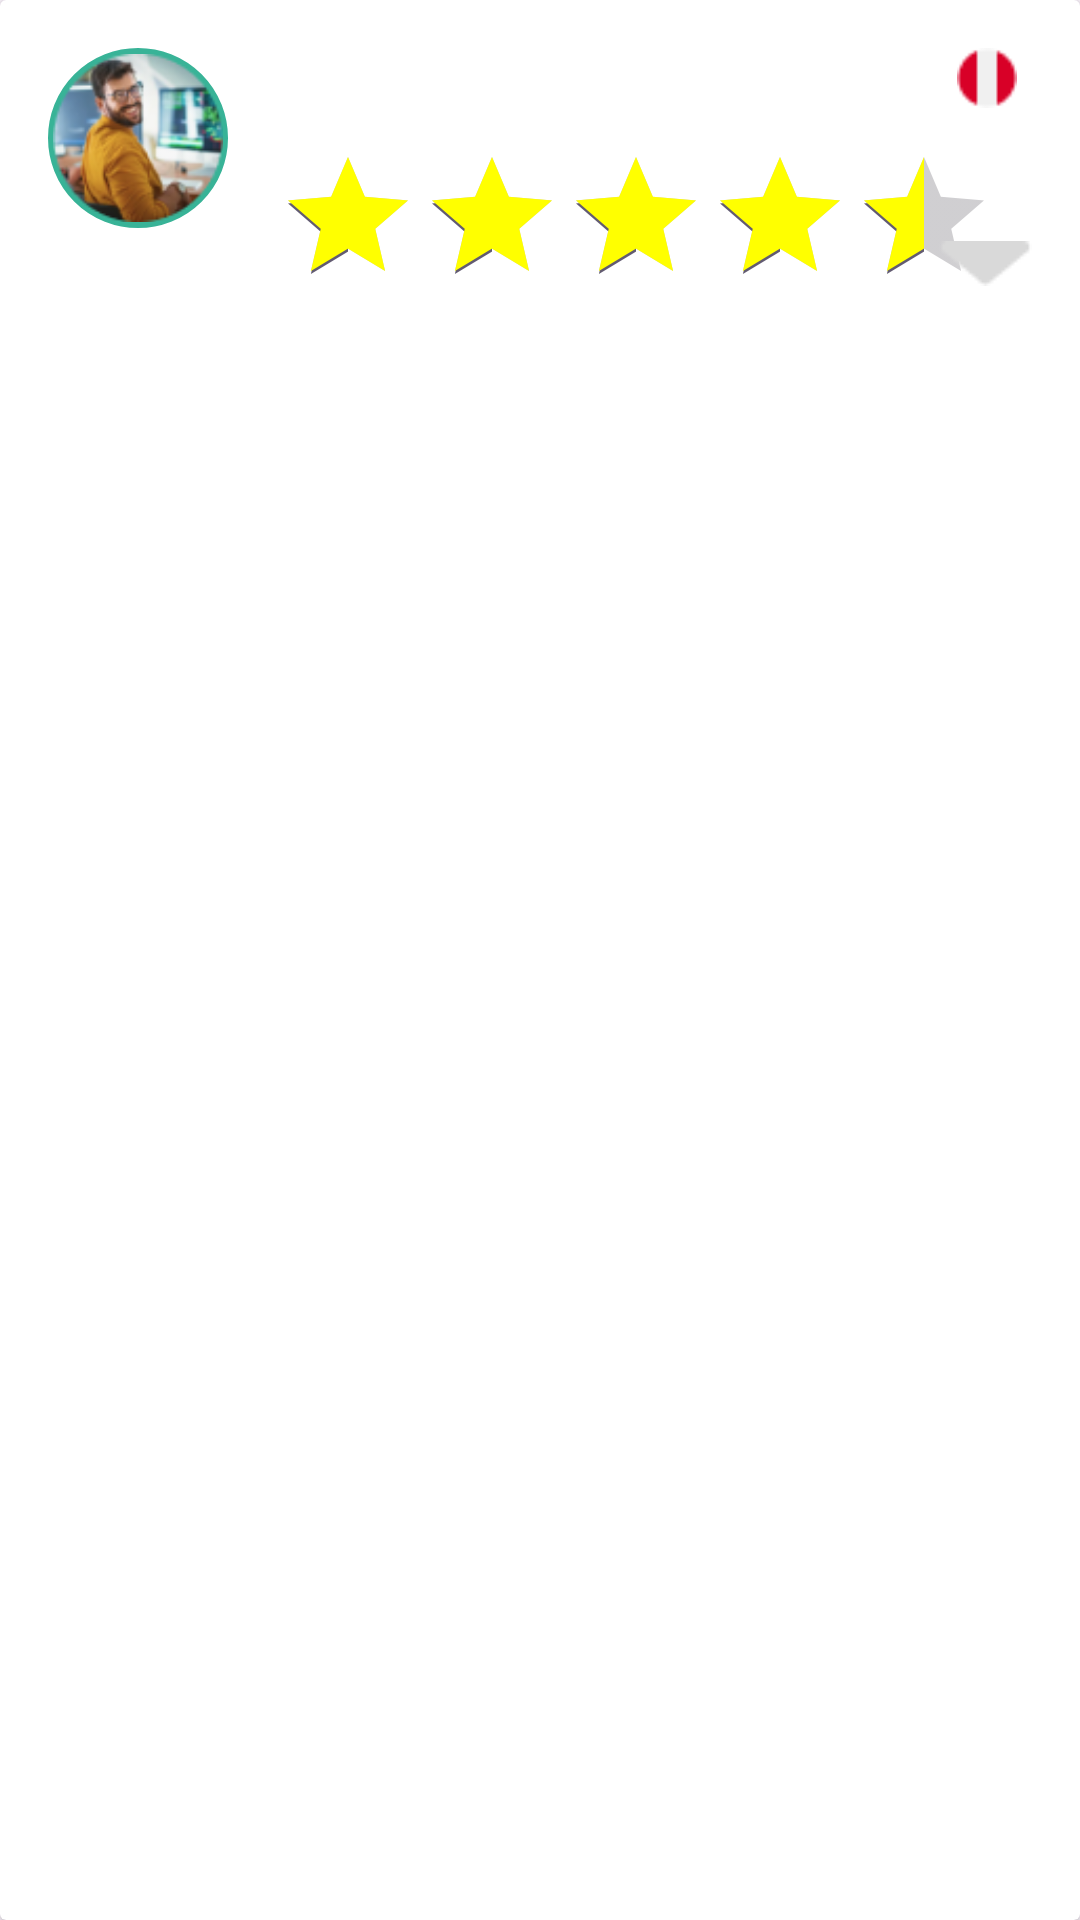

Locate icon controls on the screen. Image size 1080w x 1920h, boxes as BBox(x1, y1, x2, y2).
arrow down: BBox(939, 241, 1029, 283)
